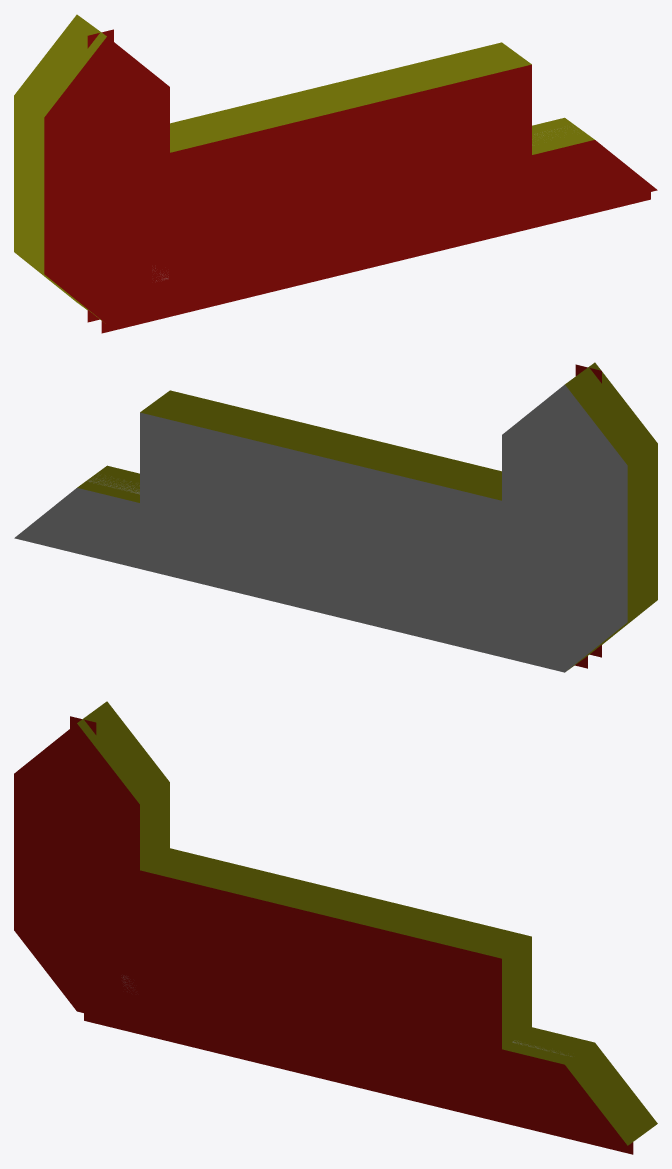
The model's file is idf.obj.
3 views of the same model, one above another, from view 1: azimuth 30°, elevation 25°; view 2: azimuth 150°, elevation 25°; view 3: azimuth 330°, elevation 25° (orthographic).
Bounding box in the file's own units: 44.57 × 20.95 × 3.8.
